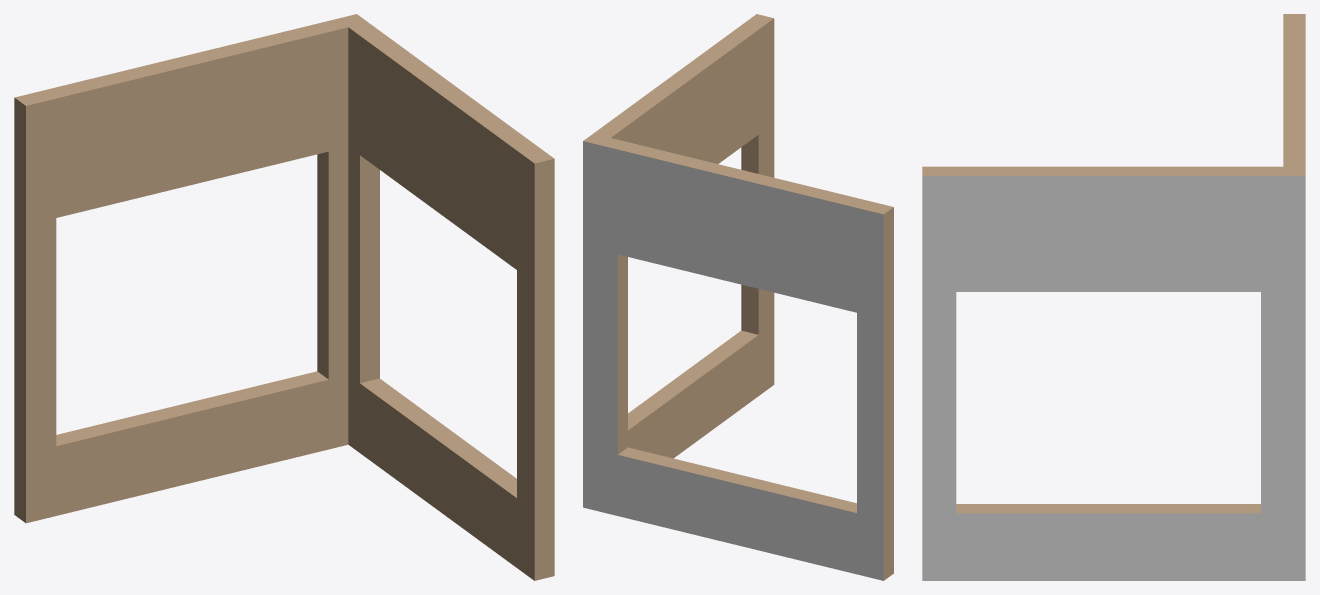
File: Wall1_C2_15.fbx
3 renders of one model, left to right at view 1: azimuth 30°, elevation 25°; view 2: azimuth 150°, elevation 25°; view 3: azimuth 270°, elevation 25°, orthographic. The views are drawn at different scales.
Visible parts, largest first — view 1: Wall1_C2_15; view 2: Wall1_C2_15; view 3: Wall1_C2_15.
Part boxes in pixels (x1,y1,x2,y2): Wall1_C2_15: (14, 14, 554, 580); Wall1_C2_15: (583, 14, 893, 580); Wall1_C2_15: (922, 14, 1305, 580).
Size of the model in its own units: 258 by 300 by 258.
